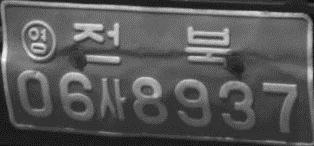0: (16, 69, 53, 119)
3: (217, 80, 257, 131)
6: (59, 70, 95, 122)
7: (261, 81, 299, 133)
8: (131, 75, 169, 125)
9: (173, 77, 212, 128)
사: (99, 76, 127, 121)
영: (20, 19, 57, 62)
전북_D: (72, 21, 232, 67)
